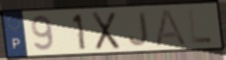1: (70, 12, 88, 52)
9: (30, 14, 56, 53)
A: (153, 8, 189, 48)
J: (127, 10, 150, 48)
L: (187, 8, 215, 46)
X: (90, 10, 121, 52)
